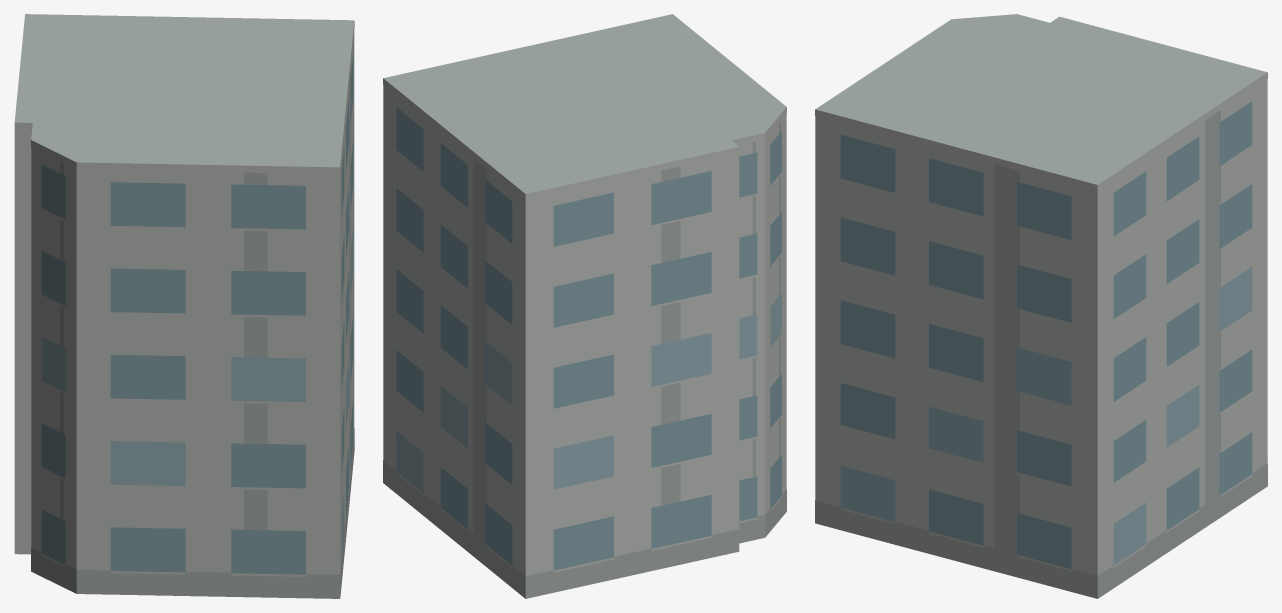
The model's file is survey-upis-32978486.glb.
3 renders of one model, left to right at view 1: azimuth 30°, elevation 25°; view 2: azimuth 150°, elevation 25°; view 3: azimuth 270°, elevation 25°, orthographic. The views are drawn at different scales.
Parts seen in each view (by area): view 1: survey-upis-32978486.tmp; view 2: survey-upis-32978486.tmp; view 3: survey-upis-32978486.tmp.
Boxes of the visible parts, box(x1,y1,x2,y2) form: survey-upis-32978486.tmp: box(14, 14, 354, 598); survey-upis-32978486.tmp: box(383, 14, 786, 598); survey-upis-32978486.tmp: box(815, 14, 1267, 598).
Size of the model in its own units: 13.29 by 15 by 14.87.
